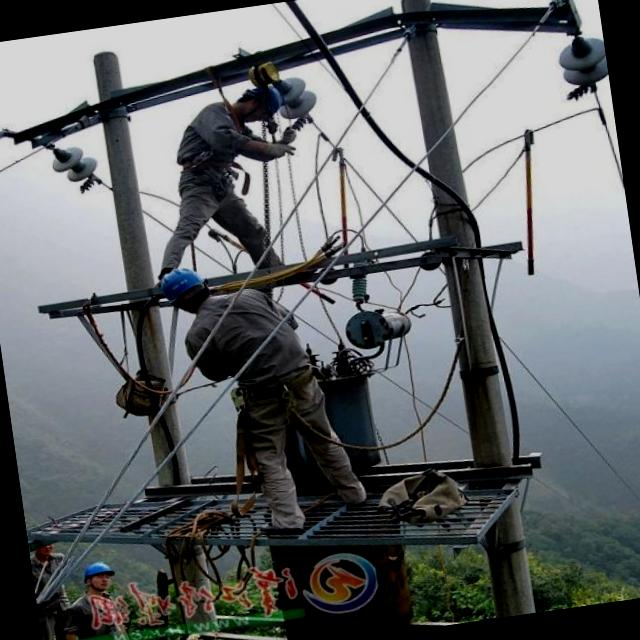helmet: (154, 262, 218, 311), (240, 78, 292, 121)
no-vest: (194, 282, 308, 388), (170, 105, 252, 180)
